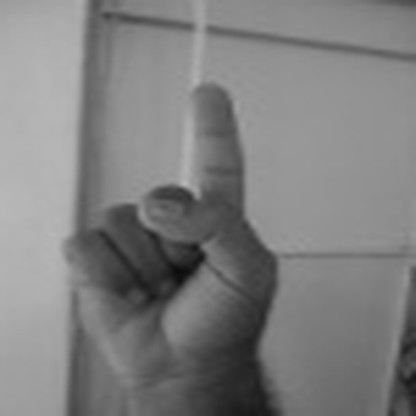d: (59, 81, 286, 377)
